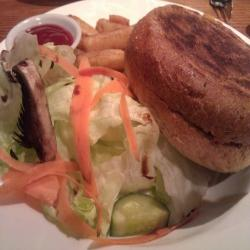burger: (28, 20, 248, 233)
ketchup: (12, 17, 79, 55)
